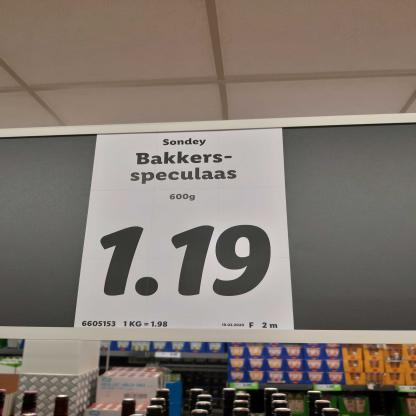prtg: (75, 129, 295, 331)
